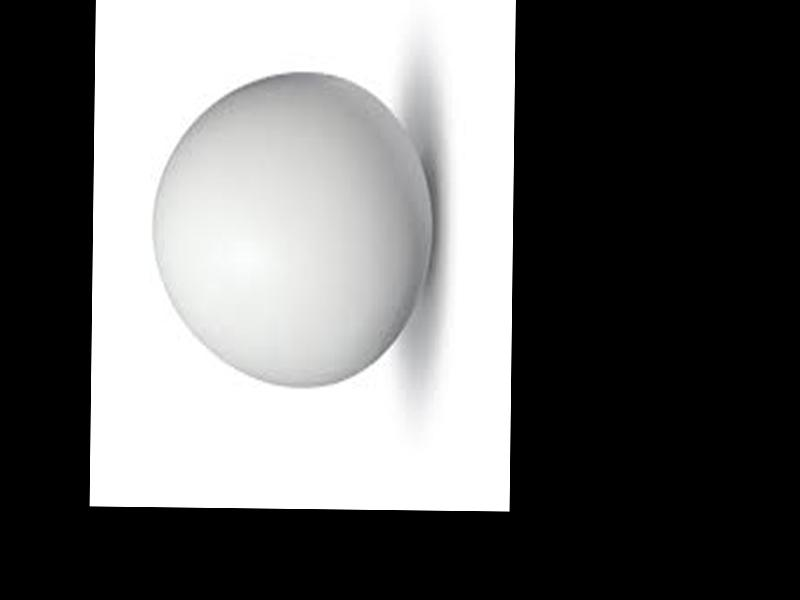Eggs: (148, 75, 432, 387)
